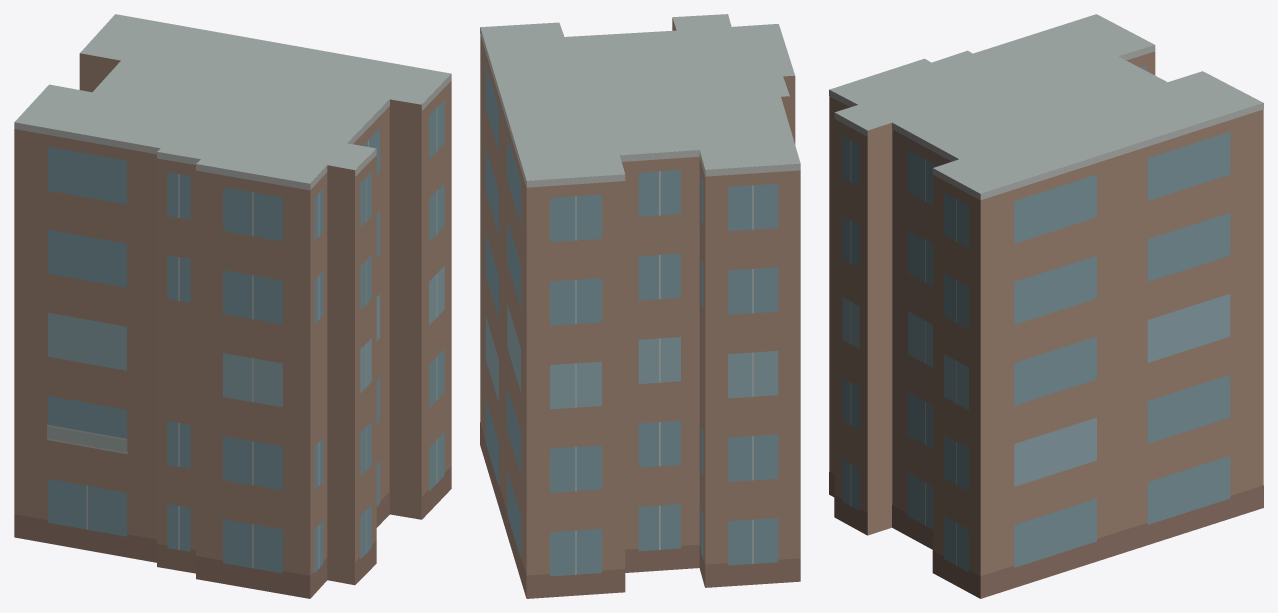
The model's file is survey-upis-32978804.glb.
3 renders of one model, left to right at view 1: azimuth 30°, elevation 25°; view 2: azimuth 150°, elevation 25°; view 3: azimuth 270°, elevation 25°, orthographic. The views are drawn at different scales.
Parts seen in each view (by area): view 1: survey-upis-32978804.tmp; view 2: survey-upis-32978804.tmp; view 3: survey-upis-32978804.tmp.
Part boxes in pixels (left/top/right/bottom): survey-upis-32978804.tmp: left=14, top=14, right=451, bottom=598; survey-upis-32978804.tmp: left=480, top=14, right=800, bottom=598; survey-upis-32978804.tmp: left=829, top=14, right=1263, bottom=598.
Size of the model in its own units: 14.58 by 15.3 by 14.89.
